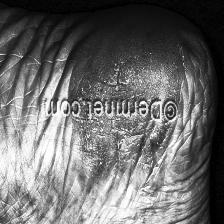Non-Cancerous Skin Condition: (70, 71, 162, 159)
